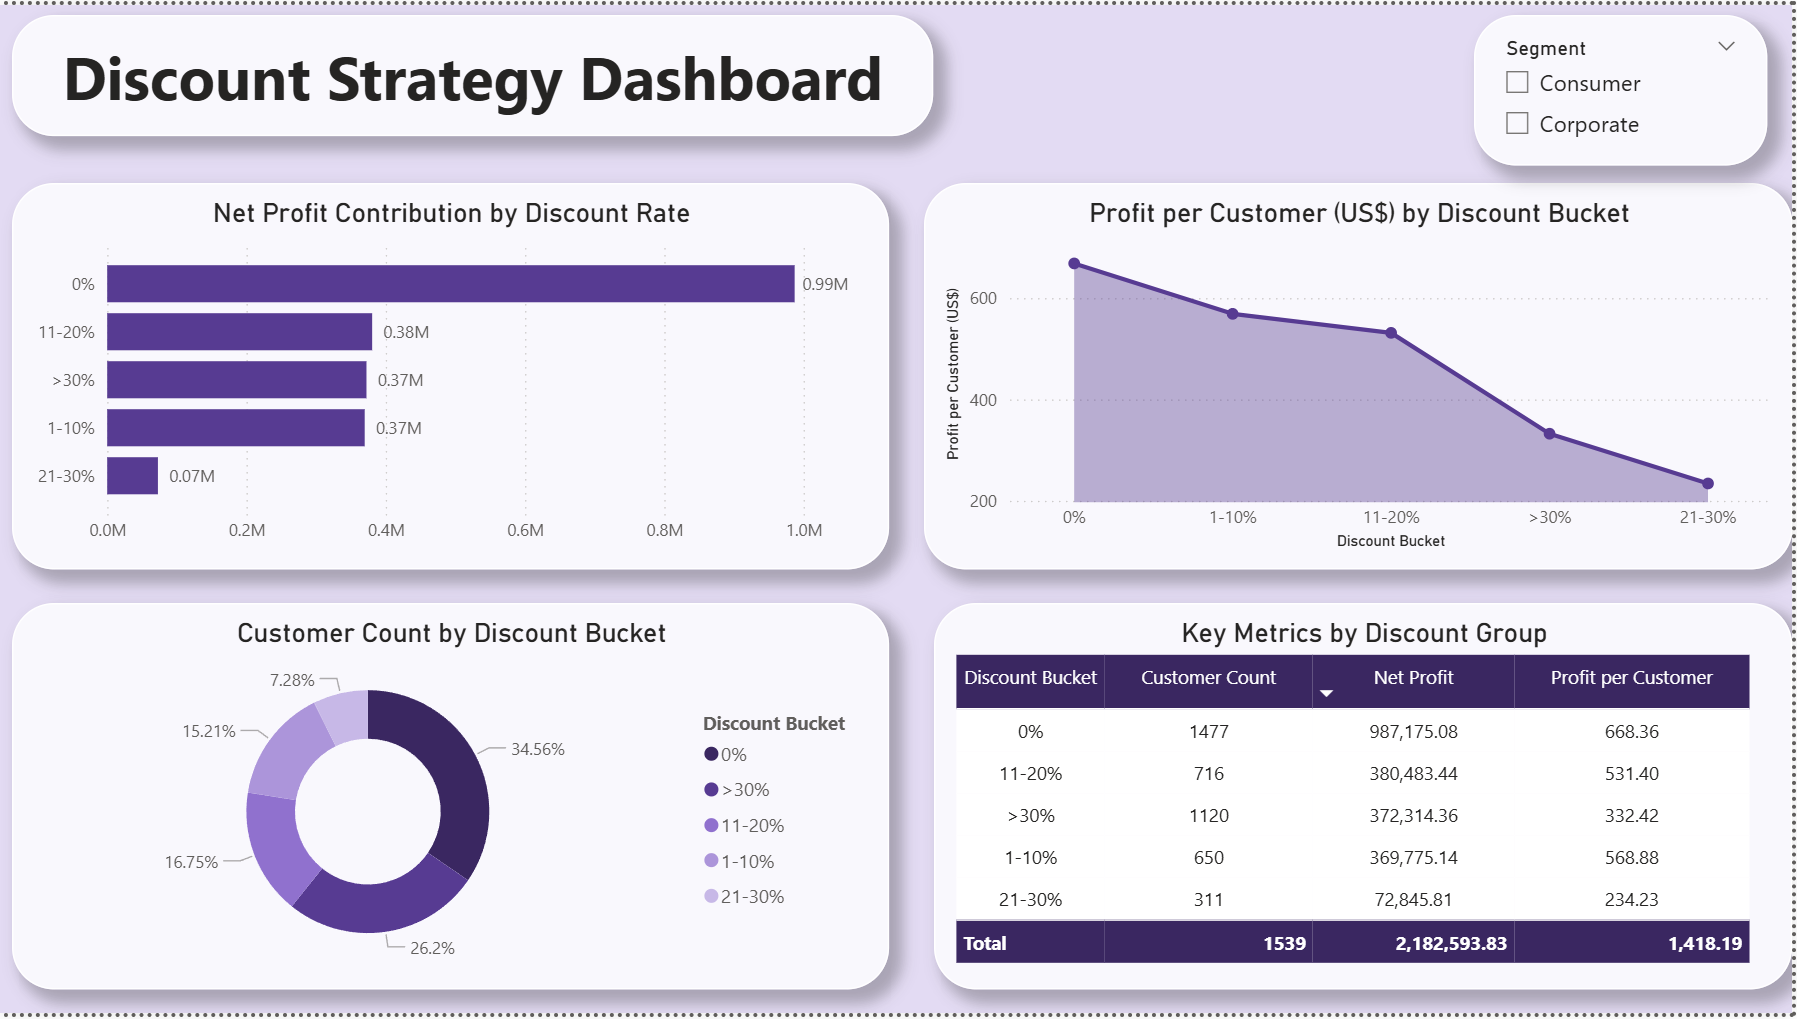

The page's visual inventory and layout, read from the dashboard file:
{"tool":"powerbi","page":{"name":"Discount Strategy","canvas":[1280,720],"ordinal":3},"visuals":[{"type":"barChart","title":"Net Profit Contribution by Discount Rate","fields":{"Y":["Sum(SAC.Profit)"],"Category":["SAC.Discount Bucket"]},"box":[9.1,127.4,626.4,276],"z":0},{"type":"donutChart","fields":{"Category":["SAC.Discount Bucket"],"Y":["Count(SAC.Customer ID)"]},"box":[9.1,427.7,626.4,276],"z":1000},{"type":"areaChart","fields":{"Category":["SAC.Discount Bucket"],"Y":["SAC.Profit per Customer"]},"box":[659.7,127.4,620.3,276],"z":2000},{"type":"tableEx","title":"Key Metrics by Discount Group","fields":{"Values":["SAC.Discount Bucket","SAC.Customer Count","Sum(SAC.Profit)","SAC.Profit per Customer"]},"box":[667.3,427.7,613,276],"z":3000},{"type":"textbox","box":[9.1,7.6,658.2,86.4],"z":4000},{"type":"slicer","fields":{"Values":["SAC.Segment"]},"box":[1052.5,7.6,209.3,107.7],"z":5000}]}

Visuals, with their boxes in screenshot pixels (x1, y1, x2, y2), scaled from the page's 1280x720 canvas onto the 1797x1019 screenshot:
"Net Profit Contribution by Discount Rate" barChart: [13, 180, 892, 571]
donutChart - SAC.Discount Bucket x Count(SAC.Customer ID): [13, 605, 892, 996]
areaChart - SAC.Discount Bucket x SAC.Profit per Customer: [926, 180, 1796, 571]
"Key Metrics by Discount Group" tableEx: [937, 605, 1796, 996]
textbox: [13, 11, 937, 133]
slicer - SAC.Segment: [1478, 11, 1771, 163]
